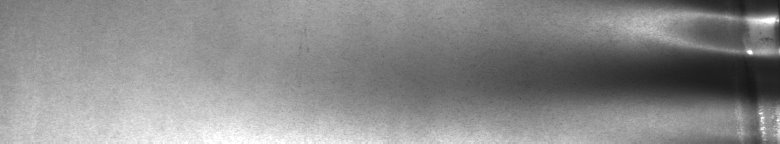ke: (644, 4, 776, 136)
